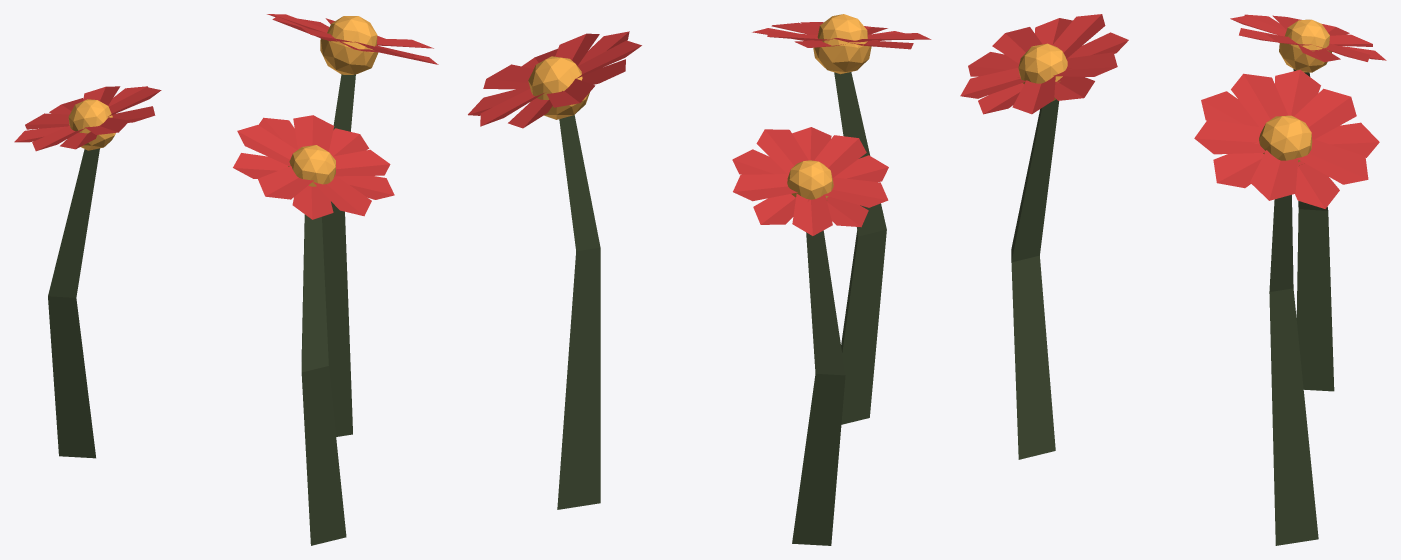
File: Flower-short-red.fbx
3 renders of one model, left to right at view 1: azimuth 30°, elevation 25°; view 2: azimuth 150°, elevation 25°; view 3: azimuth 270°, elevation 25°, orthographic. The views are drawn at different scales.
Visible parts, largest first — view 1: Flower-short-red; view 2: Flower-short-red; view 3: Flower-short-red.
Boxes of the visible parts, x1=… form: Flower-short-red: x1=14, y1=14, x2=438, y2=545; Flower-short-red: x1=468, y1=14, x2=931, y2=545; Flower-short-red: x1=960, y1=14, x2=1386, y2=545.
Size of the model in its own units: 16.07 by 16.73 by 14.6.
